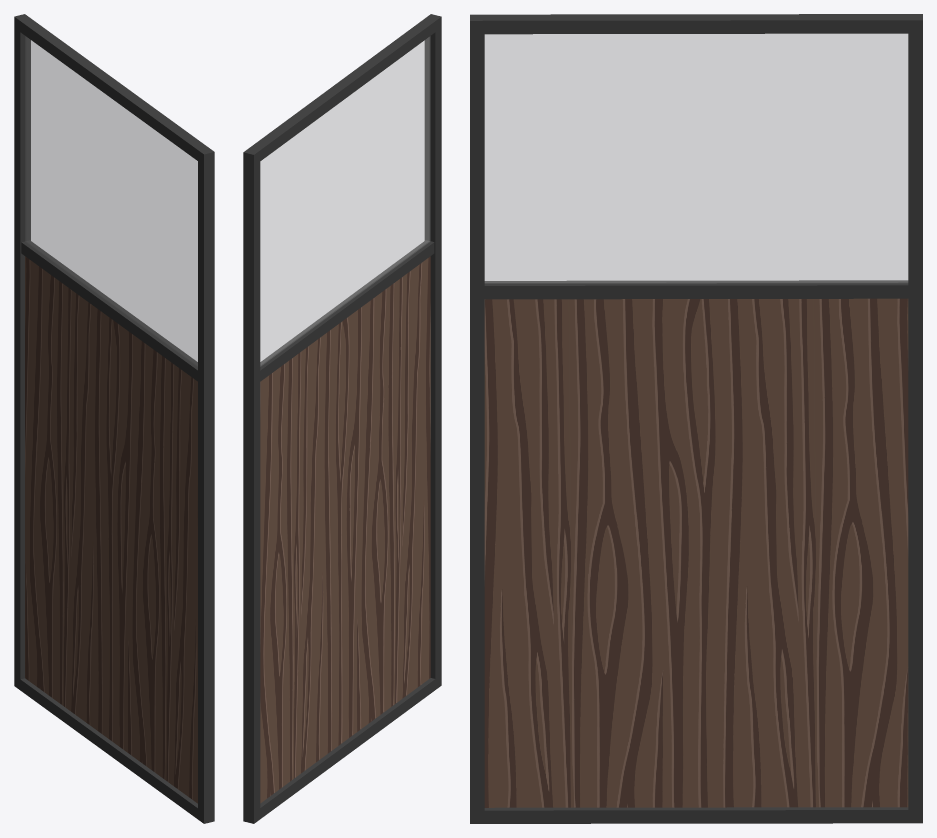
File: Seperator07.fbx
The picture shows the model from 3 angles, left to right: view 1: azimuth 30°, elevation 25°; view 2: azimuth 150°, elevation 25°; view 3: azimuth 270°, elevation 25°; orthographic projection. The views are drawn at different scales.
Visible parts, largest first — view 1: Seperator07; view 2: Seperator07; view 3: Seperator07.
Part boxes in pixels (<box>): Seperator07: <box>14,14,214,823</box>; Seperator07: <box>243,14,441,823</box>; Seperator07: <box>470,14,922,823</box>.
Size of the model in its own units: 0.055 by 1.53 by 3.
